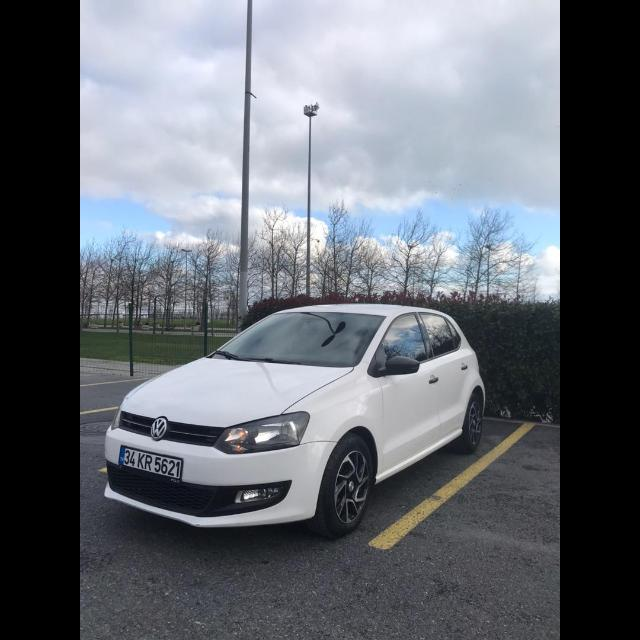Plaka: (118, 445, 182, 479)
